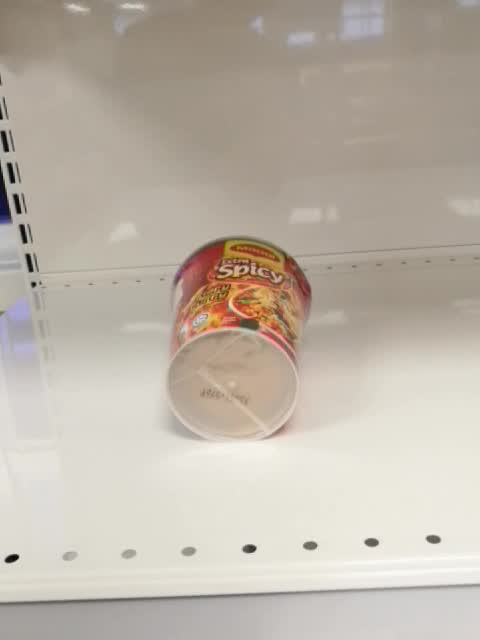maggi: (163, 234, 314, 443)
